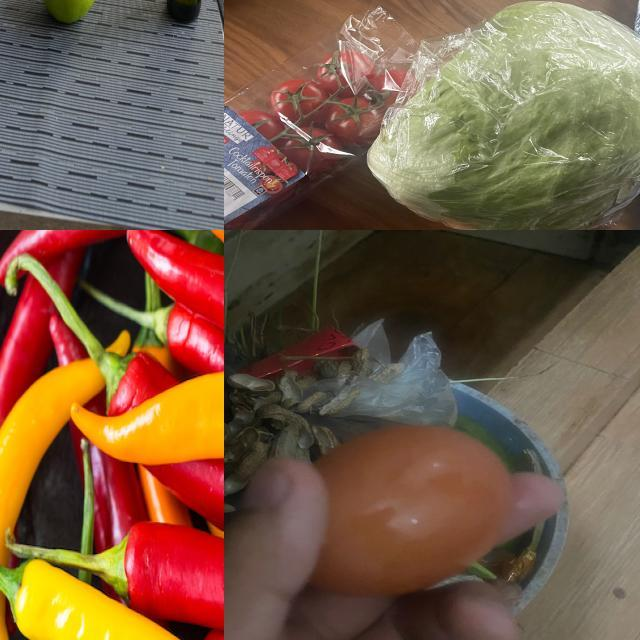cabbage: (363, 1, 640, 231)
egg: (296, 420, 520, 596)
tomato: (281, 76, 341, 126)
